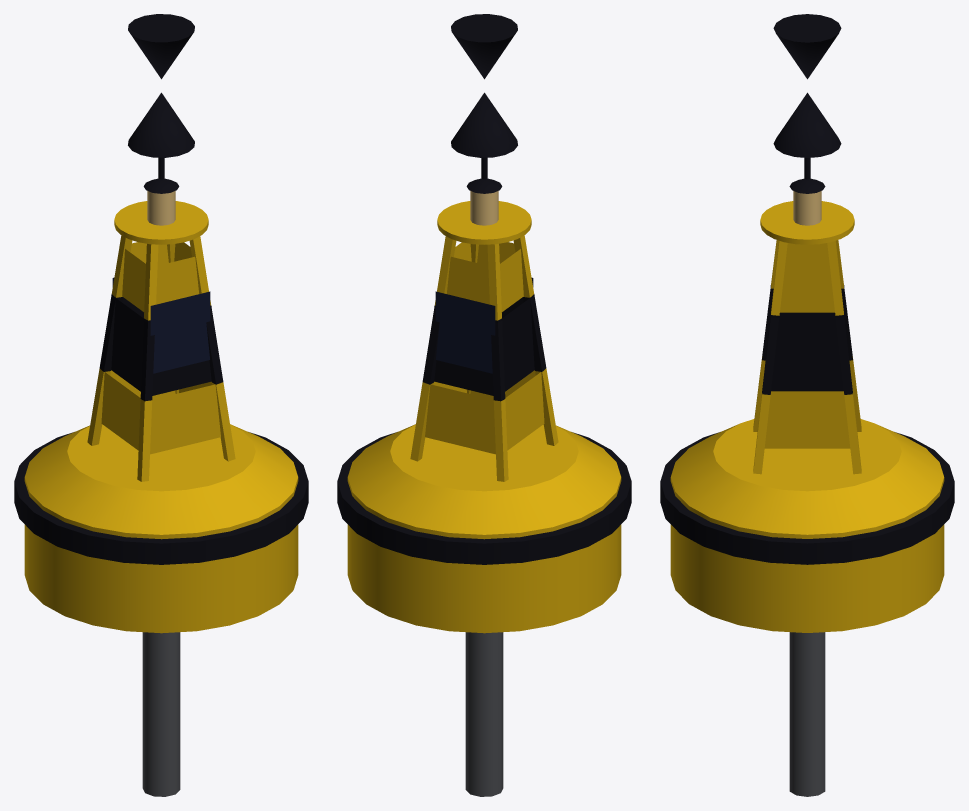
File: buoy_cardinal_west.glb
3 renders of one model, left to right at view 1: azimuth 30°, elevation 25°; view 2: azimuth 150°, elevation 25°; view 3: azimuth 270°, elevation 25°, orthographic.
Parts seen in each view (by area): view 1: buoy_cardinal_west; view 2: buoy_cardinal_west; view 3: buoy_cardinal_west.
Boxes of the visible parts, bbox=[...] form: buoy_cardinal_west: bbox=[14, 14, 308, 796]; buoy_cardinal_west: bbox=[337, 14, 631, 796]; buoy_cardinal_west: bbox=[660, 14, 954, 796].
Bounding box in the file's own units: 3.12 × 8.9 × 3.12.
